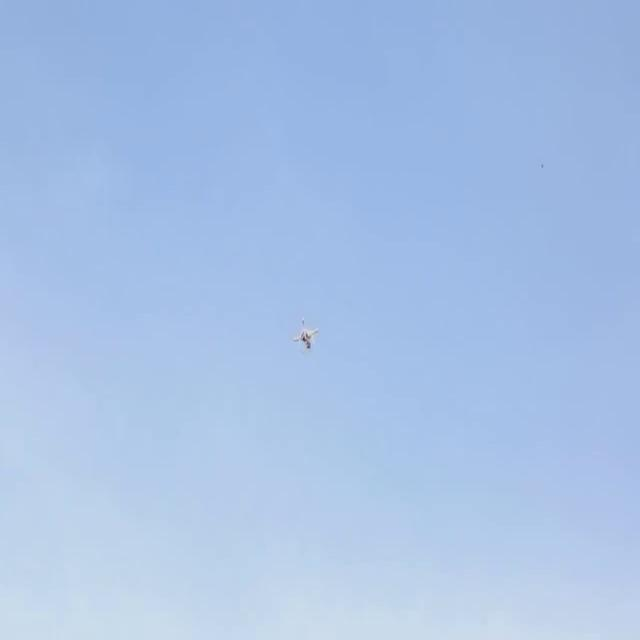drone: (294, 315, 322, 353)
